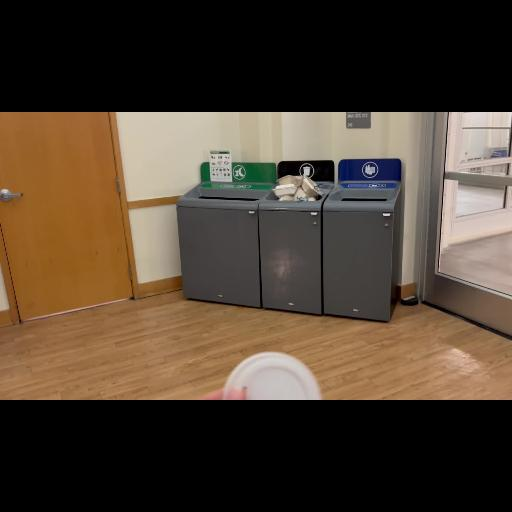lp_cup_lids: (219, 350, 323, 400)
